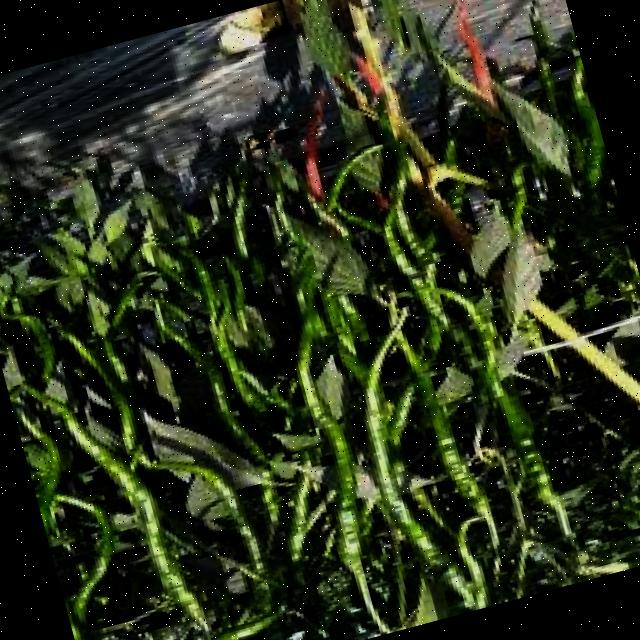healthy: (198, 162, 554, 610)
